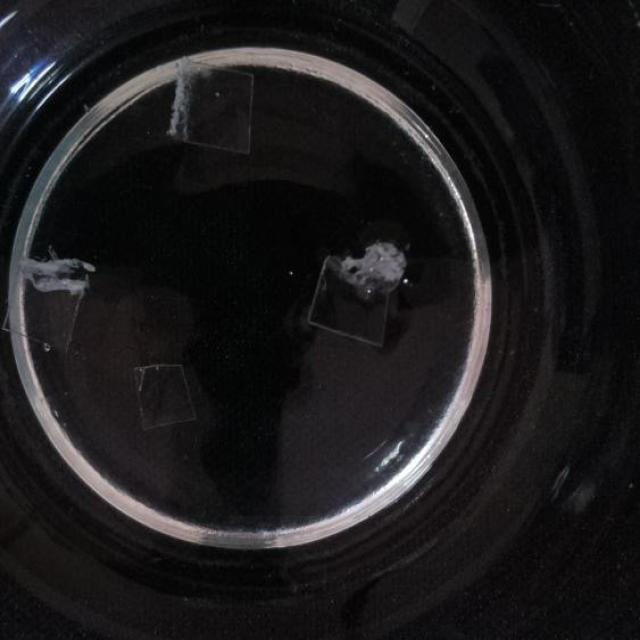fiber: (306, 242, 409, 351), (2, 248, 95, 357), (167, 55, 260, 154), (129, 356, 197, 431)
